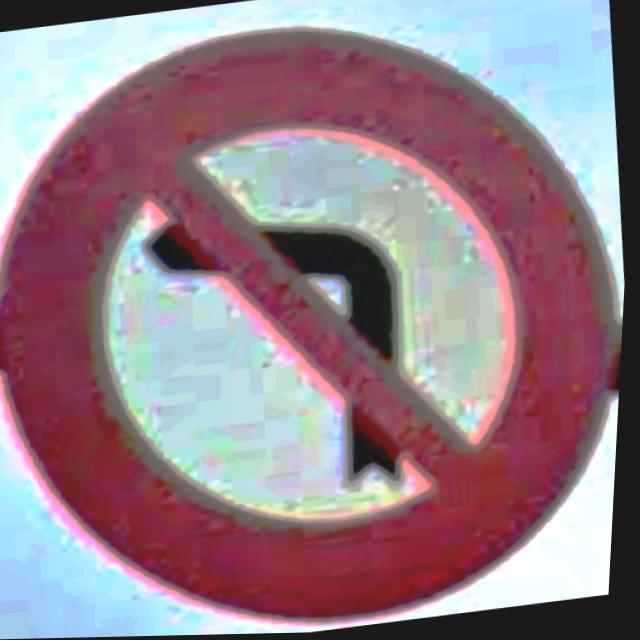noturnleft: (0, 34, 618, 625)
